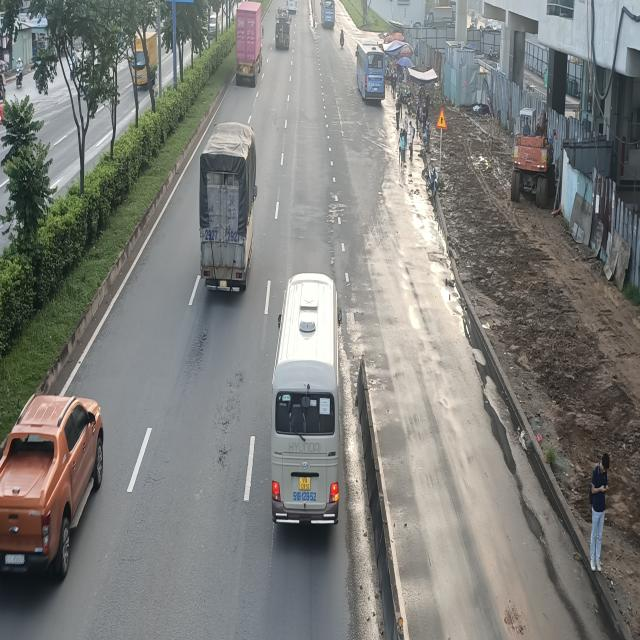car: (0, 392, 102, 581)
coach: (272, 271, 344, 521), (354, 35, 385, 103)
container: (233, 2, 262, 88)
truck: (197, 124, 256, 296)
